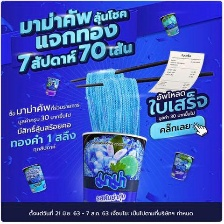paper_cup: (75, 127, 150, 202), (17, 159, 52, 196), (164, 147, 198, 184), (155, 9, 185, 40), (41, 73, 63, 99)
